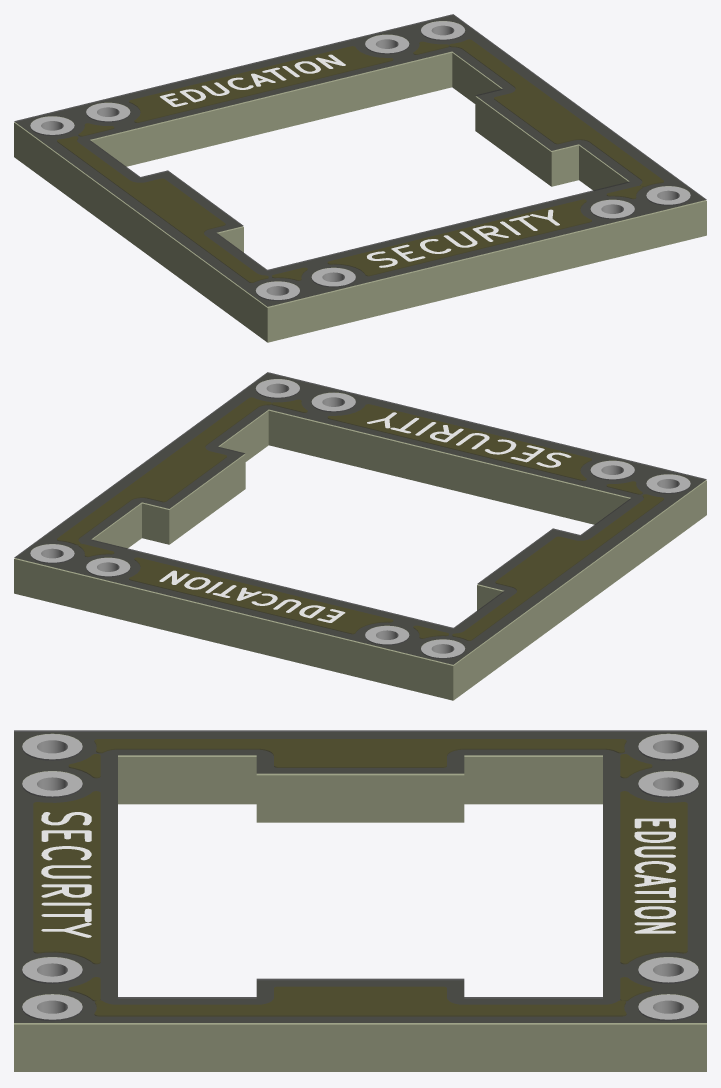
The model's file is edu-keycap-badge.glb.
The picture shows the model from 3 angles, top to bottom: view 1: azimuth 30°, elevation 25°; view 2: azimuth 150°, elevation 25°; view 3: azimuth 270°, elevation 25°; orthographic projection. The views are drawn at different scales.
Parts seen in each view (by area): view 1: =>[0:1:1:8], =>[0:1:1:6], =>[0:1:1:2], =>[0:1:1:4]; view 2: =>[0:1:1:8], =>[0:1:1:6], =>[0:1:1:2], =>[0:1:1:4]; view 3: =>[0:1:1:8], =>[0:1:1:6], =>[0:1:1:2], =>[0:1:1:4].
Part boxes in pixels (x1,y1,x2,y2): =>[0:1:1:8]: (14,16,706,342); =>[0:1:1:6]: (14,14,706,306); =>[0:1:1:2]: (30,21,690,300); =>[0:1:1:4]: (160,54,559,267); =>[0:1:1:8]: (14,374,706,700); =>[0:1:1:6]: (14,372,706,664); =>[0:1:1:2]: (30,379,690,658); =>[0:1:1:4]: (159,412,571,622); =>[0:1:1:8]: (14,732,706,1071); =>[0:1:1:6]: (14,730,706,1022); =>[0:1:1:2]: (22,734,698,1020); =>[0:1:1:4]: (41,812,675,937).
Bounding box in the file's own units: 0.02 × 0.00166 × 0.02.
Materials: 4 (4 with a texture image).
